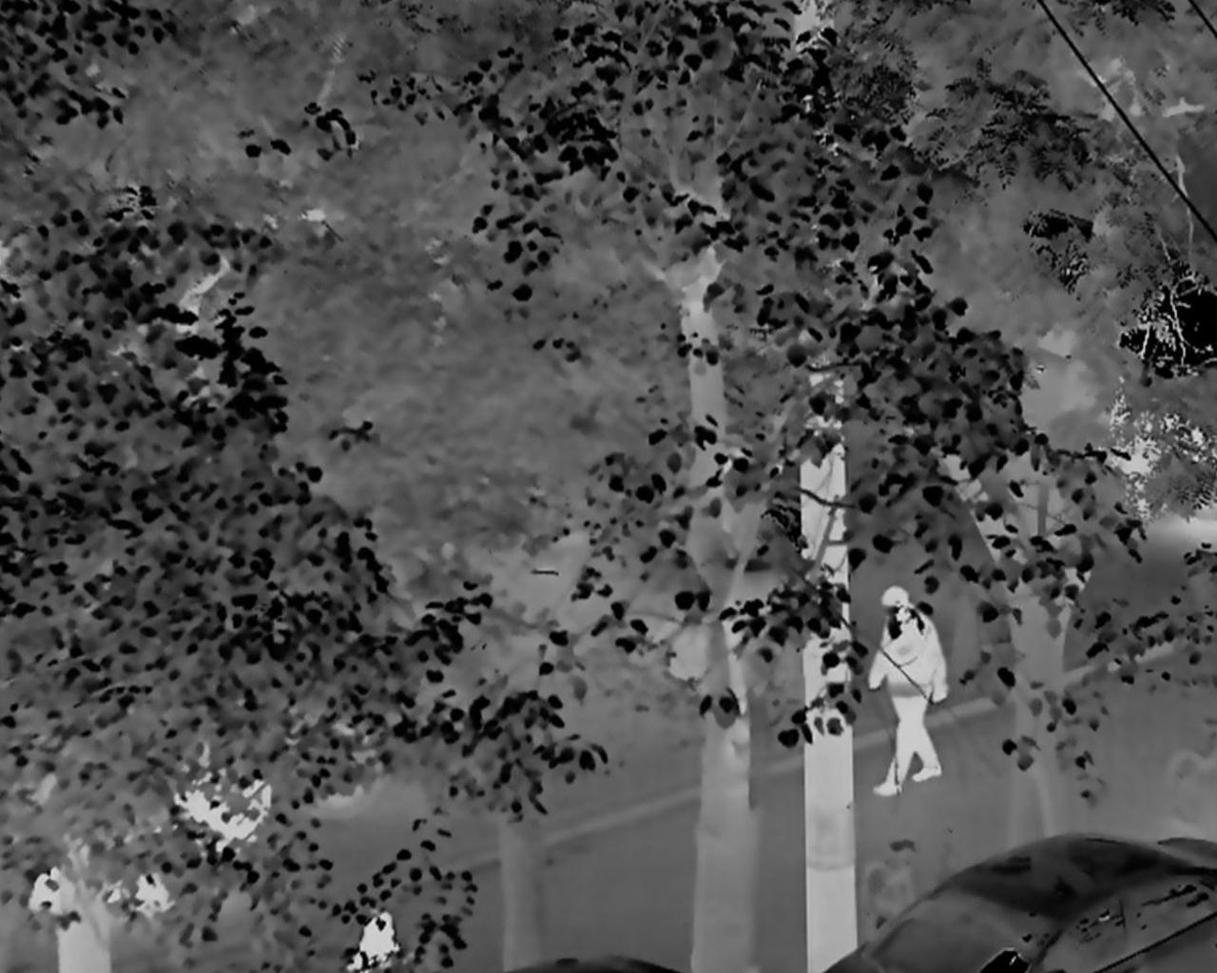person: (868, 582, 950, 797)
